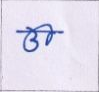i_matra: (40, 23, 52, 45)
